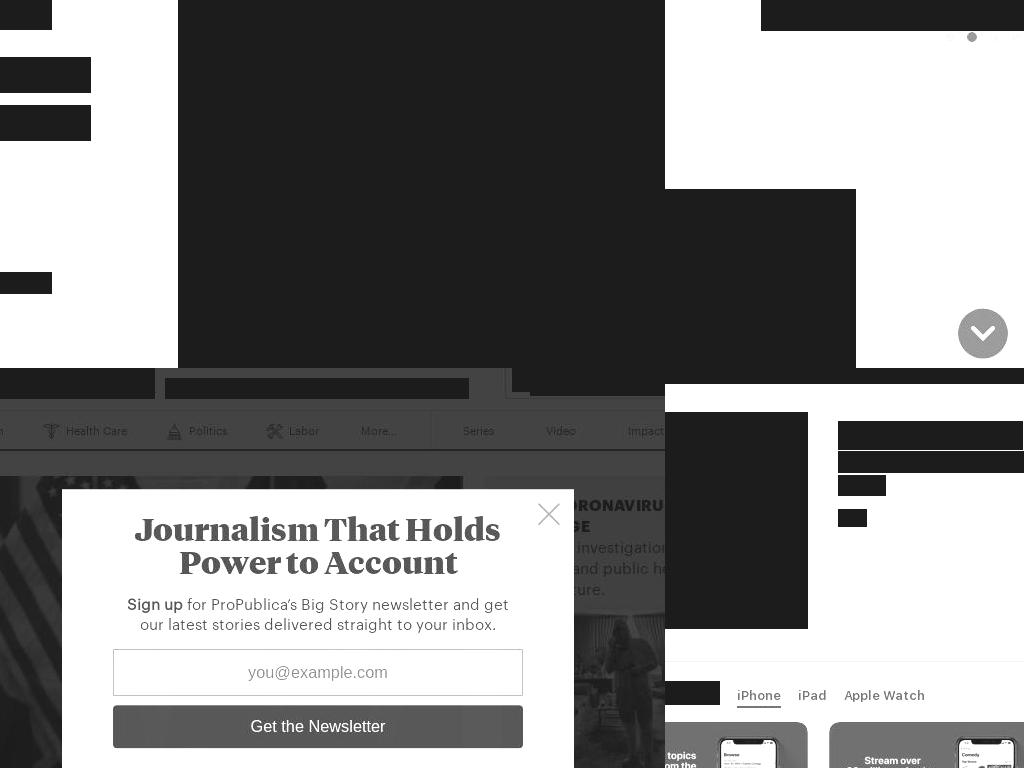button: (0, 475, 463, 768), (502, 609, 665, 768), (502, 493, 665, 536), (0, 368, 155, 399), (39, 409, 134, 451), (162, 409, 234, 451), (165, 378, 303, 399), (262, 409, 326, 451), (958, 321, 1008, 368), (302, 378, 409, 399), (354, 409, 404, 451), (456, 409, 501, 451), (620, 409, 665, 451), (843, 685, 925, 708), (539, 409, 583, 451), (408, 378, 469, 399), (737, 685, 781, 708), (797, 685, 827, 708)
field: (530, 368, 665, 396), (0, 57, 91, 93), (0, 105, 91, 141)
heading: (502, 493, 665, 536), (838, 421, 1023, 450), (0, 368, 155, 399), (838, 451, 1024, 473), (665, 681, 720, 705), (838, 475, 886, 496)
iframe: (0, 368, 665, 768)
image: (178, 0, 665, 368), (0, 475, 463, 768), (665, 236, 1024, 368), (665, 189, 856, 368), (665, 412, 808, 629), (502, 609, 665, 768), (828, 722, 1024, 768), (665, 722, 808, 768), (870, 349, 1024, 368), (971, 334, 995, 359), (512, 368, 531, 392), (43, 423, 55, 435), (166, 423, 178, 435), (266, 423, 278, 435)
text: (502, 535, 665, 599), (761, 0, 1024, 31), (665, 368, 1024, 384), (62, 422, 127, 439), (185, 422, 227, 439), (286, 422, 320, 439), (838, 509, 867, 527)
